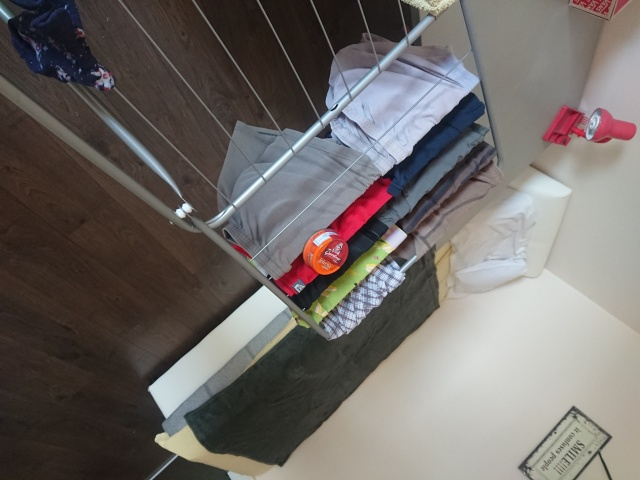Gavrilovic Pork Liver Pate 100g: (300, 225, 349, 276)
